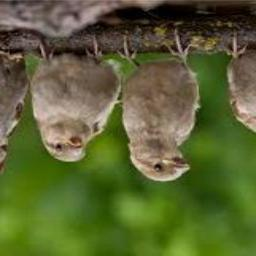Sparrow: (118, 31, 199, 182), (30, 43, 121, 163), (0, 42, 29, 187), (224, 32, 256, 161)
